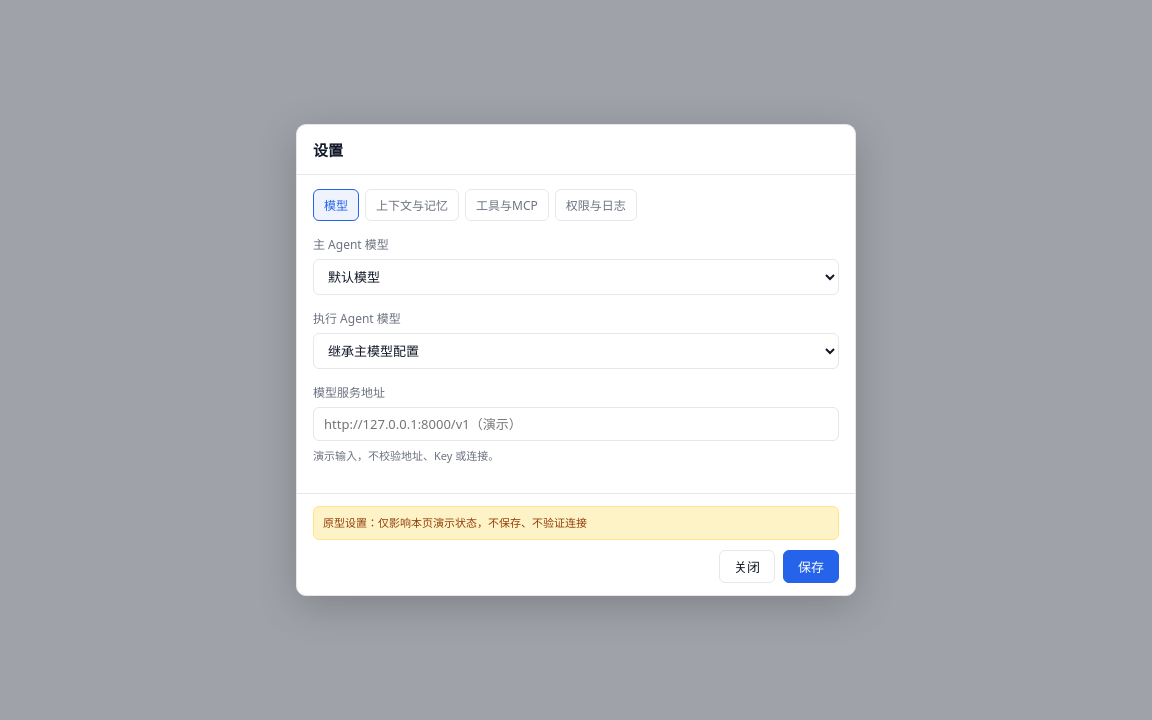
Test: SettingsDialog — 页签与表单 › 切换页签显示对应表单行
The width and height of the screenshot is (1152, 720).
Click the tab "上下文与记忆": (412, 205) x1=365 y1=189 x2=459 y2=221
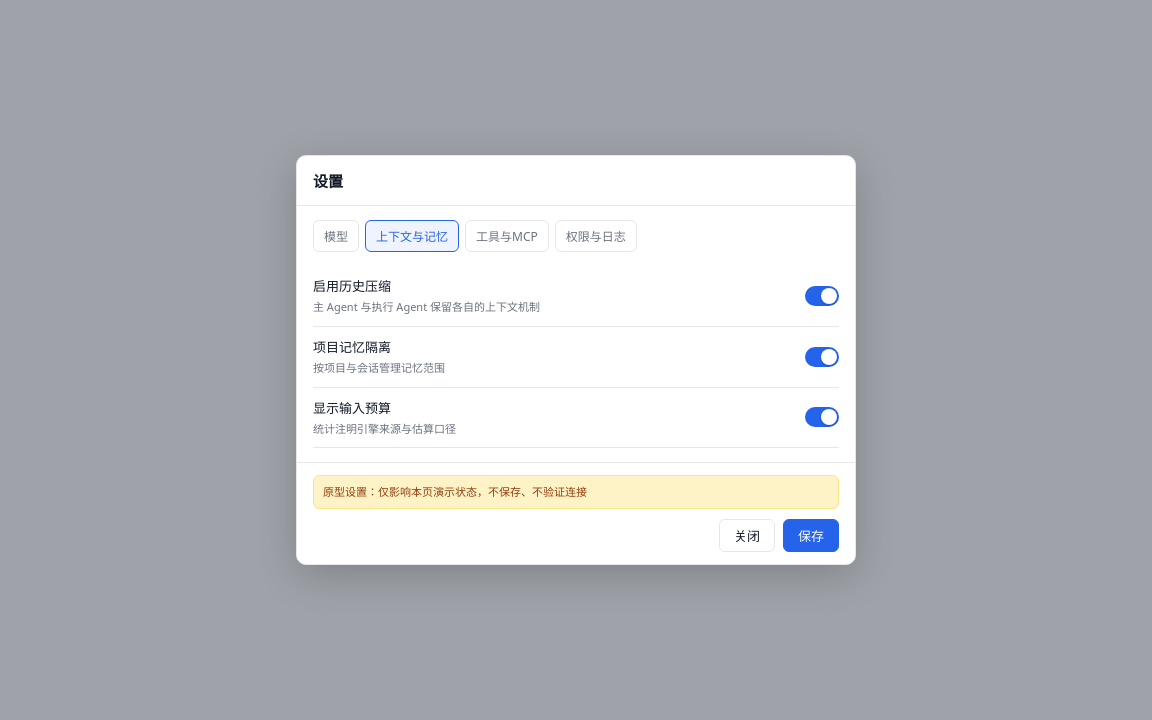
Expected: the tab "上下文与记忆" is shown, x1=365 y1=220 x2=459 y2=252
Expected: the checkbox labelled "启用历史压缩 主 Agent 与执行 Agent 保留各自的上下文机制" is shown, x1=805 y1=286 x2=839 y2=306
Expected: the label labelled "主 Agent 模型" is gone
Click the tab "权限与日志": (596, 236) x1=555 y1=220 x2=637 y2=252
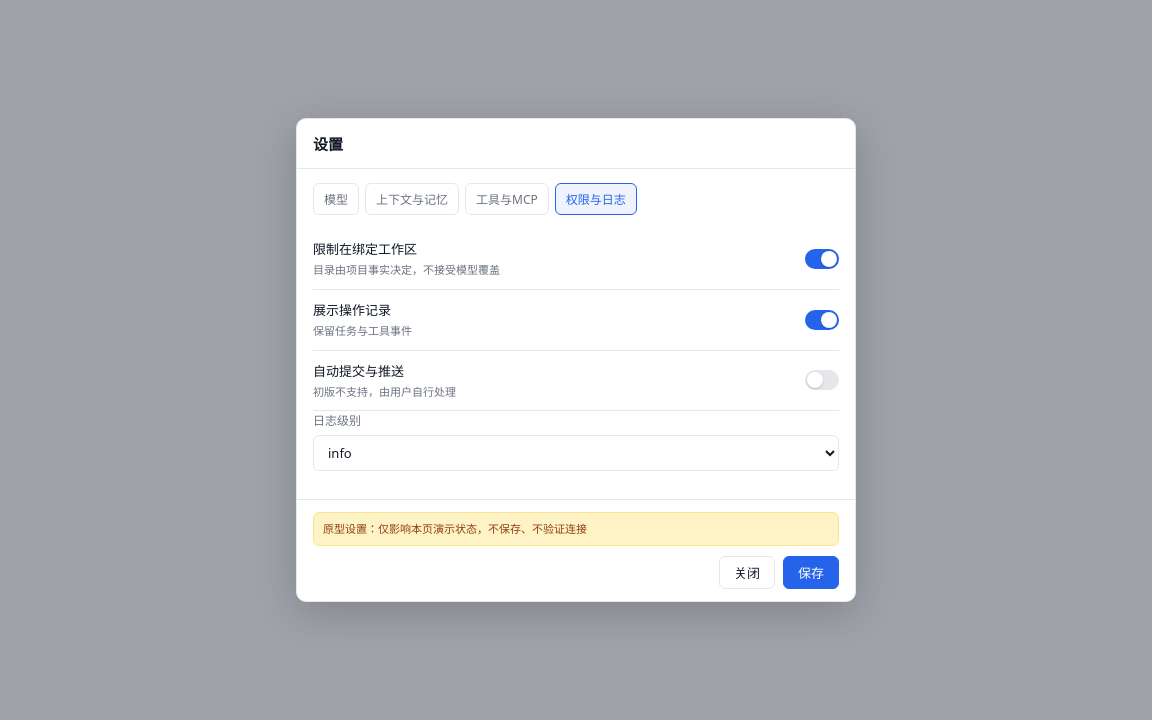
Expected: the checkbox labelled "限制在绑定工作区 目录由项目事实决定，不接受模型覆盖" is shown, x1=805 y1=249 x2=839 y2=269
Expected: the dropdown labelled "日志级别" is shown, x1=313 y1=435 x2=839 y2=471
